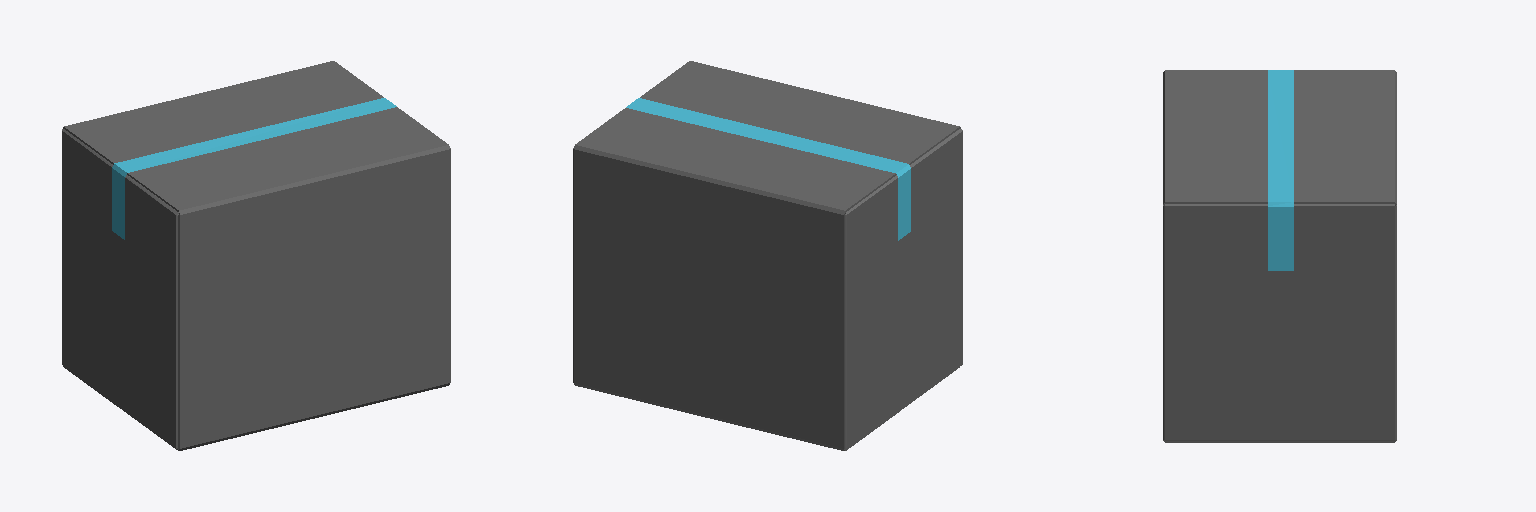
Rendered from Cardboard_Box.obj.
3 views of the same model, side by side, from view 1: azimuth 30°, elevation 25°; view 2: azimuth 150°, elevation 25°; view 3: azimuth 270°, elevation 25° (orthographic).
Parts seen in each view (by area): view 1: cardbox_A, Plane001; view 2: cardbox_A, Plane001; view 3: cardbox_A, Plane001.
Part boxes in pixels (left/top/right/bottom): cardbox_A: left=62, top=61, right=450, bottom=450; Plane001: left=112, top=98, right=396, bottom=239; cardbox_A: left=573, top=61, right=962, bottom=450; Plane001: left=626, top=98, right=910, bottom=240; cardbox_A: left=1163, top=70, right=1396, bottom=442; Plane001: left=1268, top=70, right=1293, bottom=270.
Size of the model in its own units: 100 by 83.76 by 73.93.